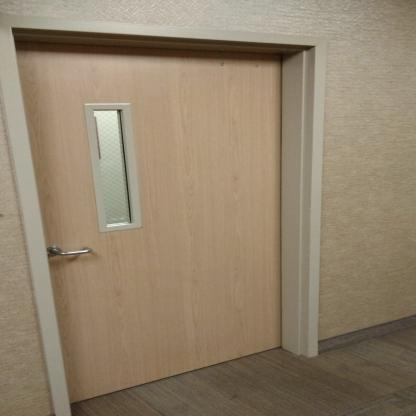door: (43, 50, 283, 404)
lever: (50, 247, 95, 262)
